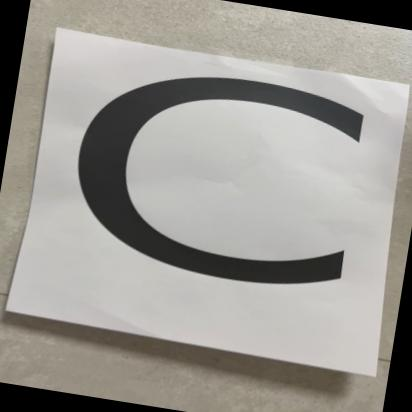seat: (21, 31, 412, 370)
